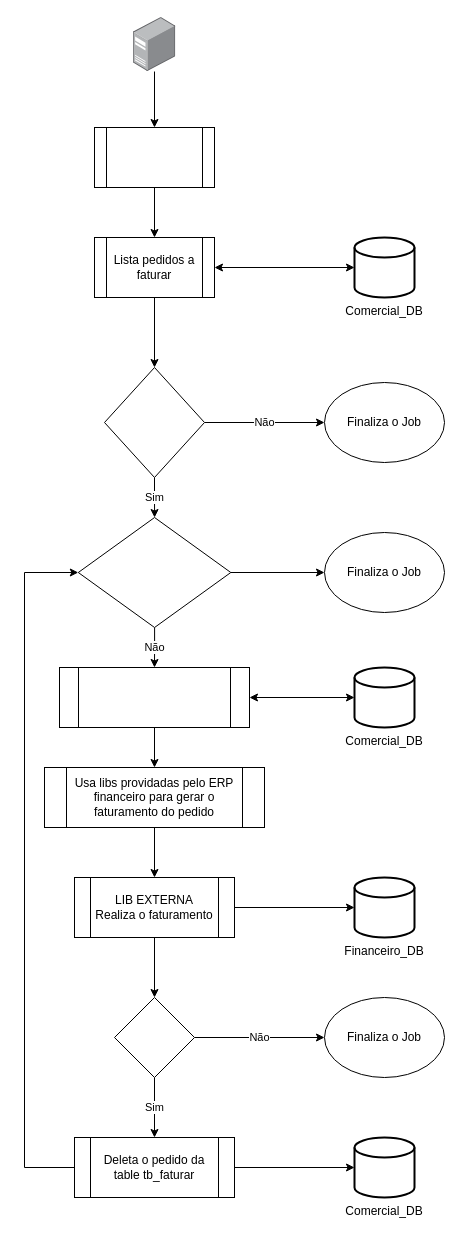
Some shapes in this 462 by 1235 pixel diagram are drawn without their labels. The shapes that lost their labels are listed below. From the top down, each one's centre as x and y in pixels, then its label:
point 154,157: Cronjob a cada minuto
point 154,422: Tem pedido a faturar?
point 154,572: Existe algum item com status "processando"?
point 154,697: Lista dados do pedido e atualiza a table tb_faturar para o estado processando
point 154,1037: Pedido foi faturado?
